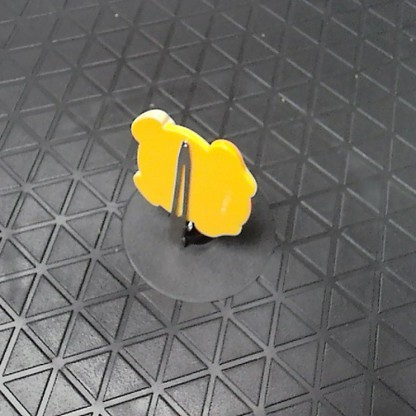dogclip: (124, 104, 257, 250)
